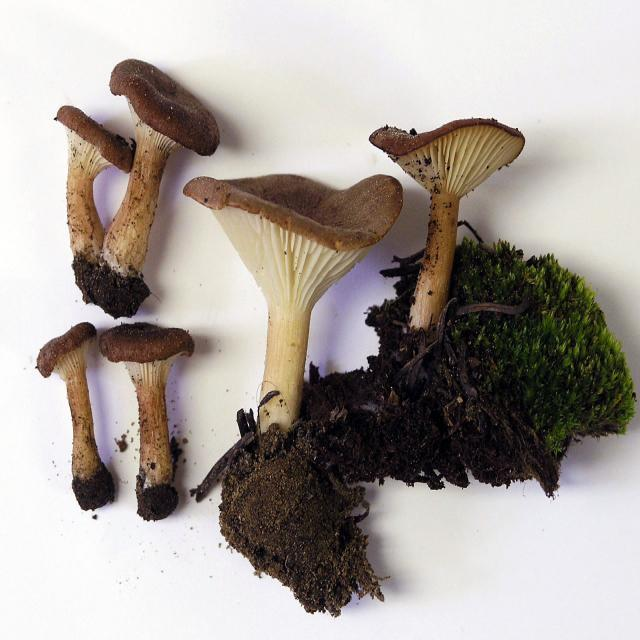Clitocybe maxima: (182, 171, 399, 438), (56, 57, 212, 306), (371, 120, 523, 329), (100, 326, 195, 511), (33, 321, 112, 511)
